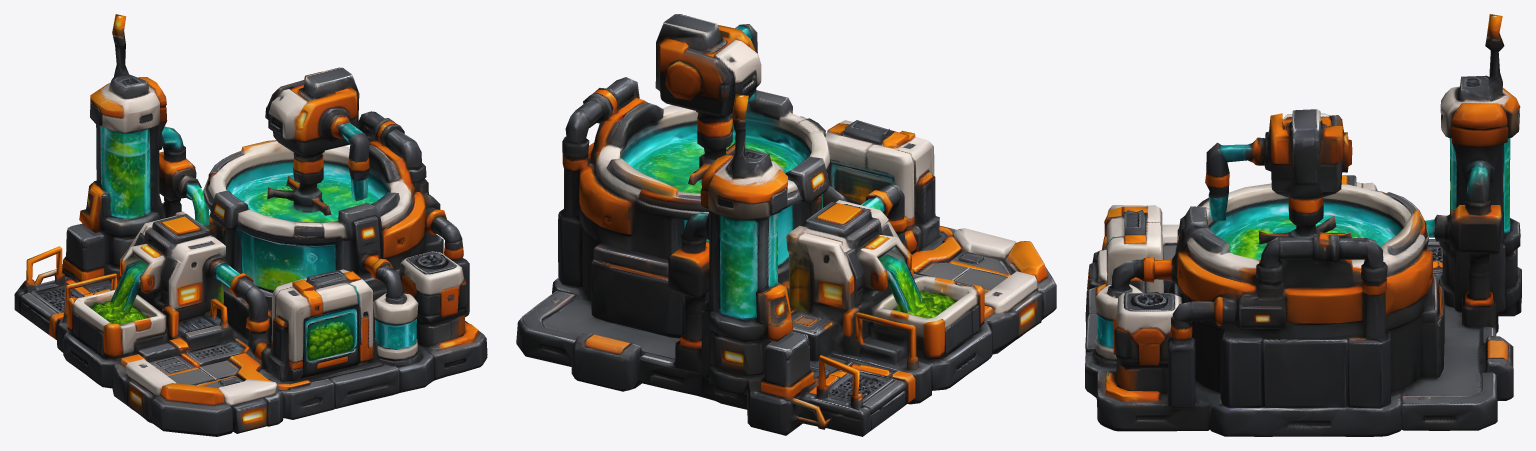
Rendered from building-algae-facility-l1.glb.
The picture shows the model from 3 angles, left to right: view 1: azimuth 30°, elevation 25°; view 2: azimuth 150°, elevation 25°; view 3: azimuth 270°, elevation 25°; orthographic projection. The views are drawn at different scales.
Visible parts, largest first — view 1: tripo_node_75dc88d0-3ad6-4a1c-aa59-36618fbf2b49; view 2: tripo_node_75dc88d0-3ad6-4a1c-aa59-36618fbf2b49; view 3: tripo_node_75dc88d0-3ad6-4a1c-aa59-36618fbf2b49.
Part boxes in pixels (x1,y1,x2,y2): tripo_node_75dc88d0-3ad6-4a1c-aa59-36618fbf2b49: (14, 14, 487, 436); tripo_node_75dc88d0-3ad6-4a1c-aa59-36618fbf2b49: (516, 14, 1056, 436); tripo_node_75dc88d0-3ad6-4a1c-aa59-36618fbf2b49: (1085, 14, 1521, 436).
Size of the model in its own units: 0.9648 by 0.7654 by 0.9799.
1 material, 1 textured.
